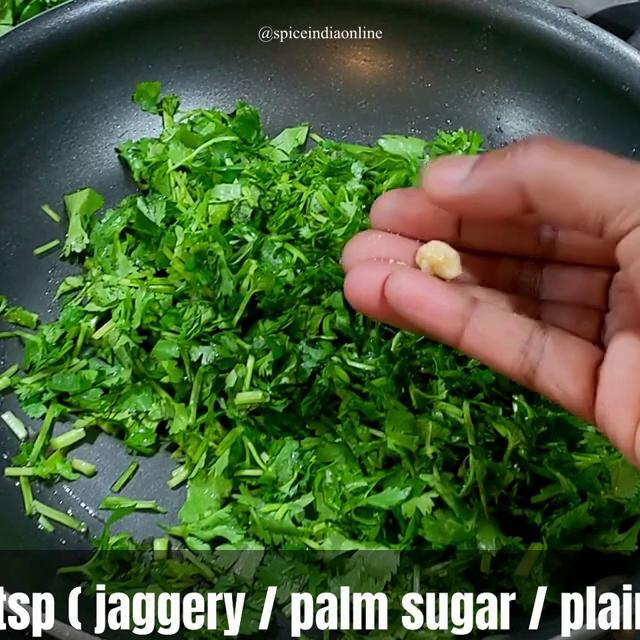cilantro: (100, 106, 333, 446)
